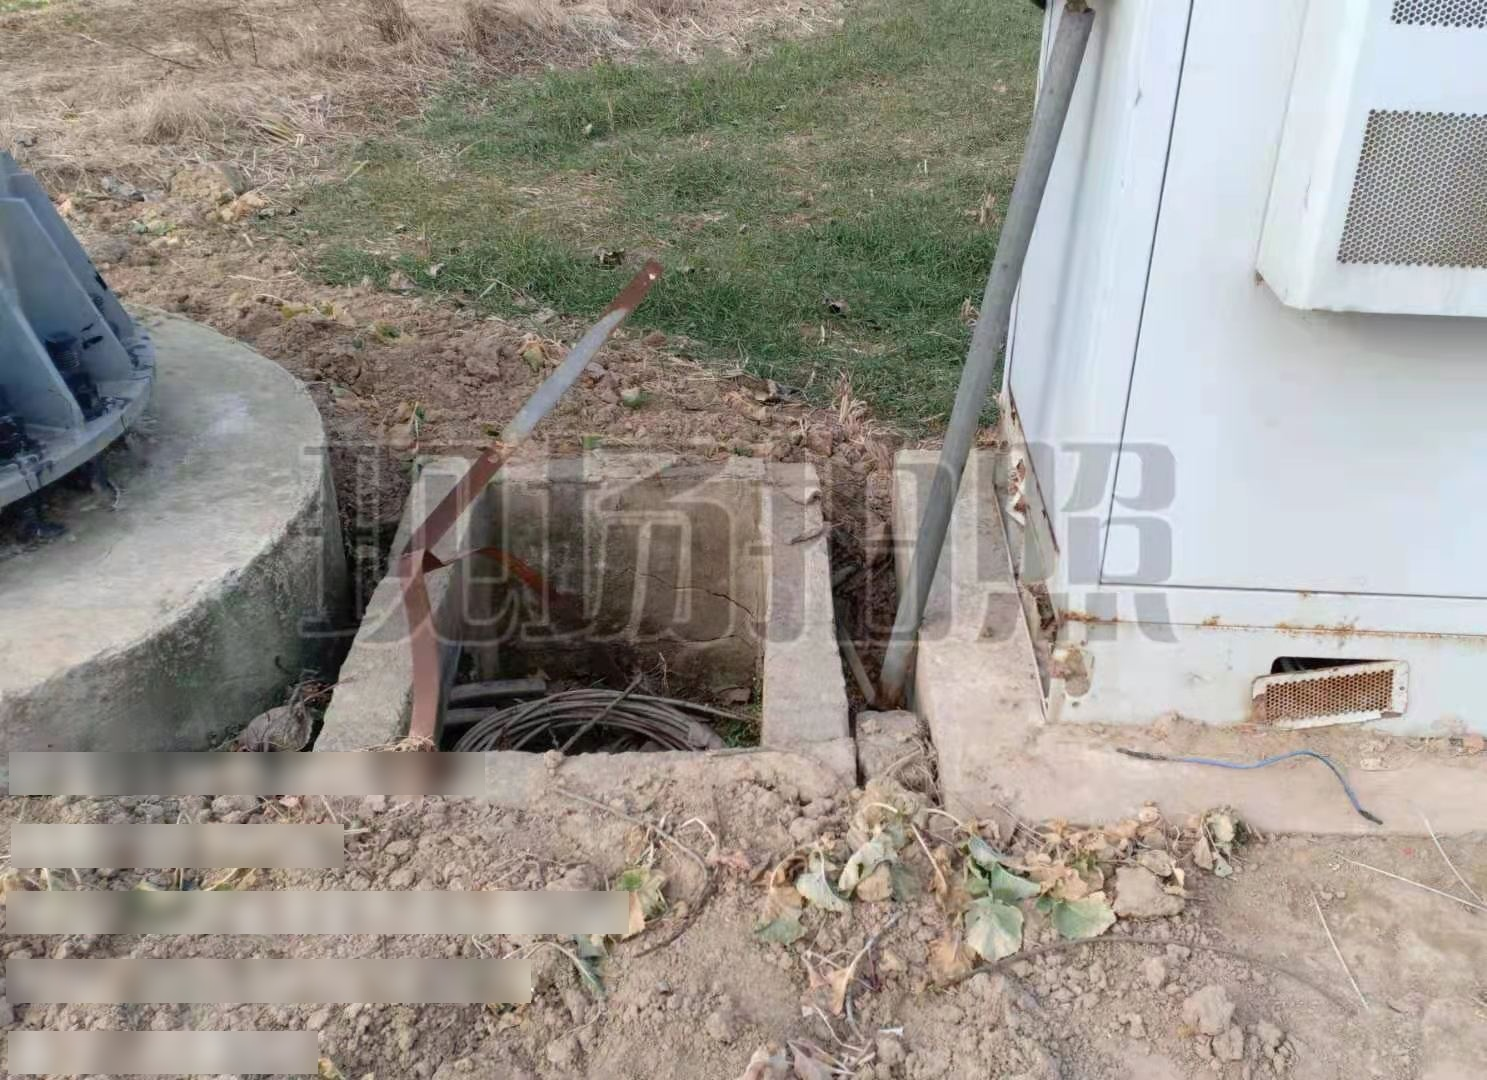lose: (394, 455, 771, 755)
